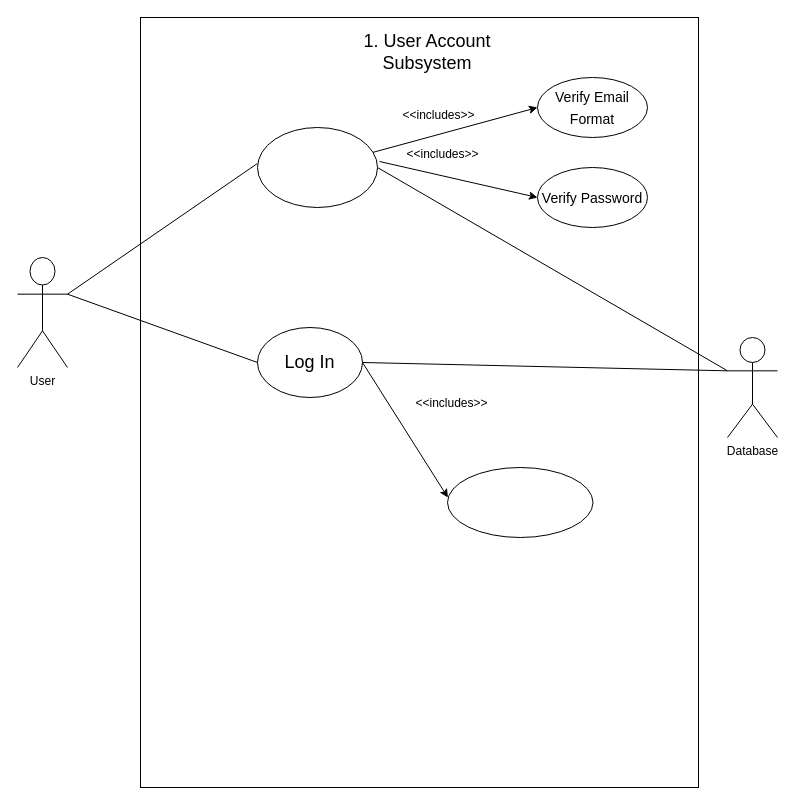
Image size: 795x805. Some labels were removed from this diagram. The shapes that lost their labels are listed below. From the top down, each one's centre as x and y in pixels, then its label:
At pixel 317 167: "Sign Up".
At pixel 519 502: "Validate entered details".
